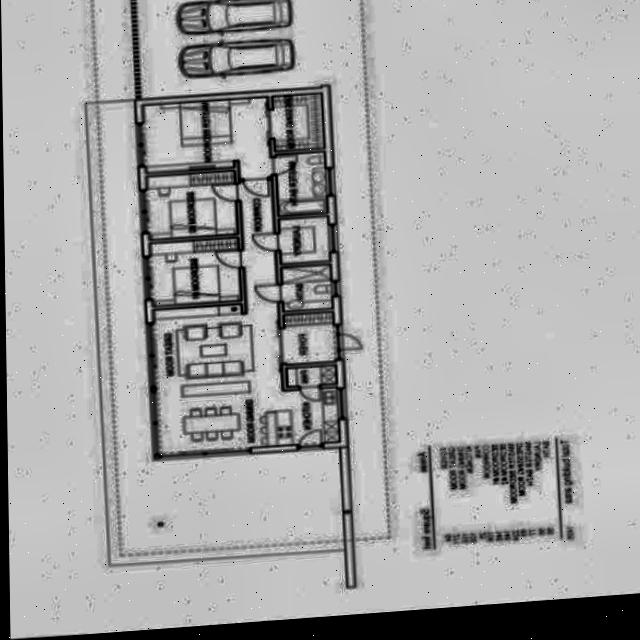room: (150, 299, 342, 456), (146, 97, 276, 173), (149, 172, 241, 239), (152, 239, 242, 307), (242, 159, 278, 313), (278, 153, 331, 216), (275, 94, 327, 151), (285, 313, 335, 365), (280, 217, 334, 265), (284, 265, 332, 311)
